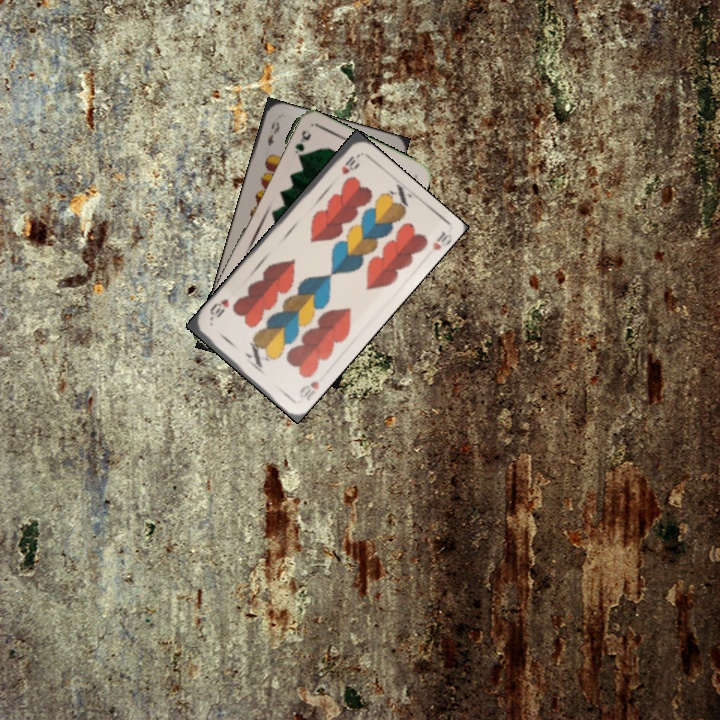E9: (263, 118, 283, 149)
G9: (291, 126, 314, 161)
H10: (295, 377, 322, 403), (337, 151, 361, 177)
